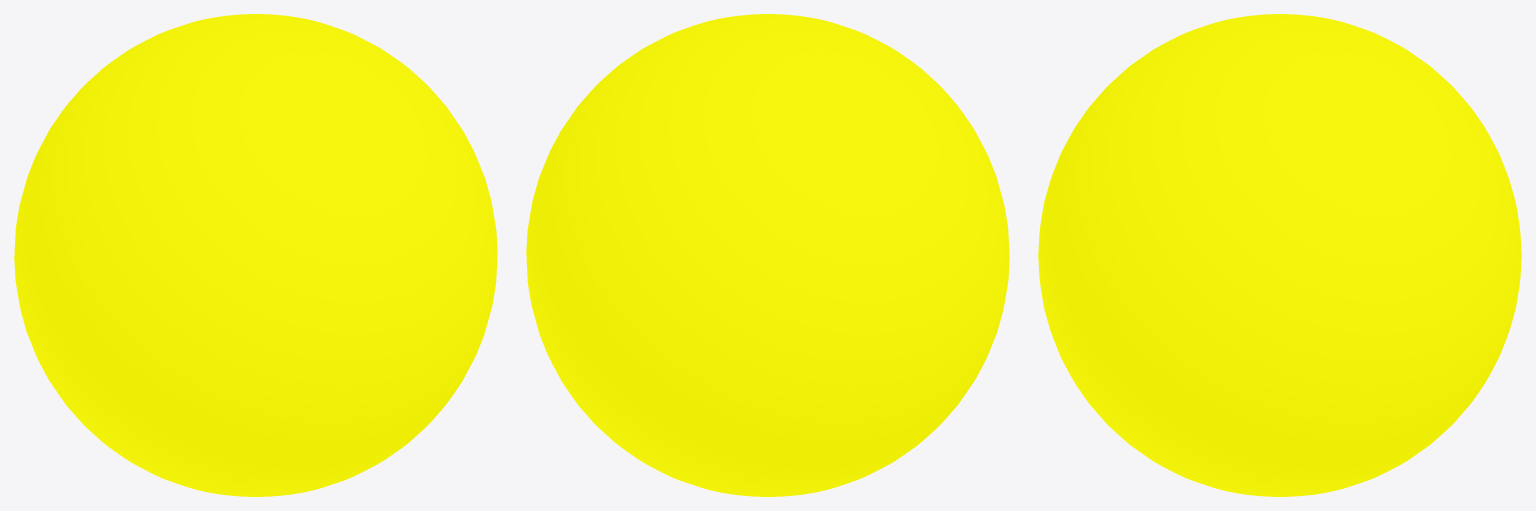
File: sun.glb
3 renders of one model, left to right at view 1: azimuth 30°, elevation 25°; view 2: azimuth 150°, elevation 25°; view 3: azimuth 270°, elevation 25°, orthographic.
Visible parts, largest first — view 1: Сфера; view 2: Сфера; view 3: Сфера.
Part boxes in pixels (<box>): Сфера: <box>14,14,497,496</box>; Сфера: <box>526,14,1009,496</box>; Сфера: <box>1038,14,1521,496</box>.
Bounding box in the file's own units: 4.68 × 4.68 × 4.68.
